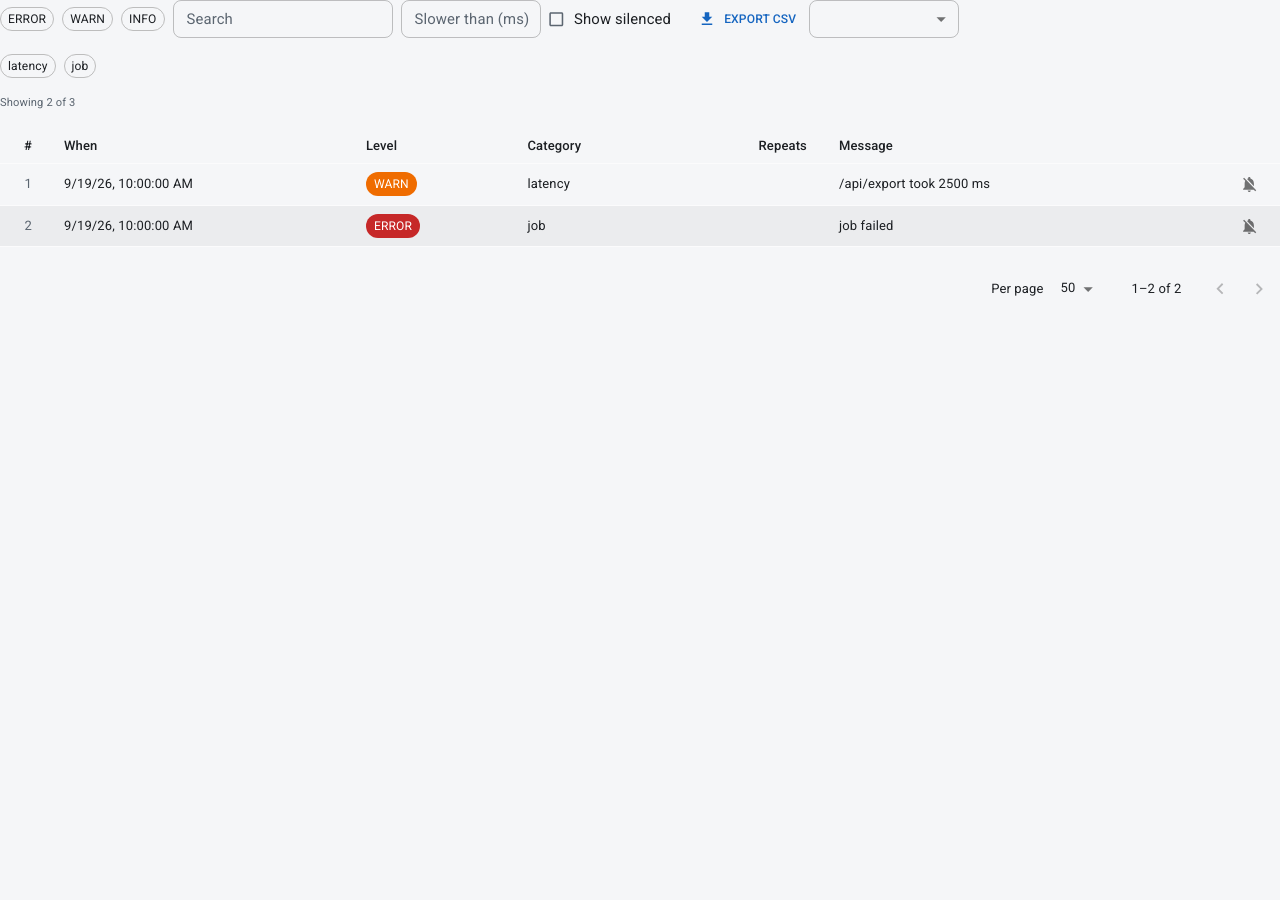
Test case: AlertsPanel › offers to silence a row
Click the button named "Silence this" in the row of "/api/export took 2500 ms" at {"x": 1250, "y": 184}, box [1235,170,1264,199]
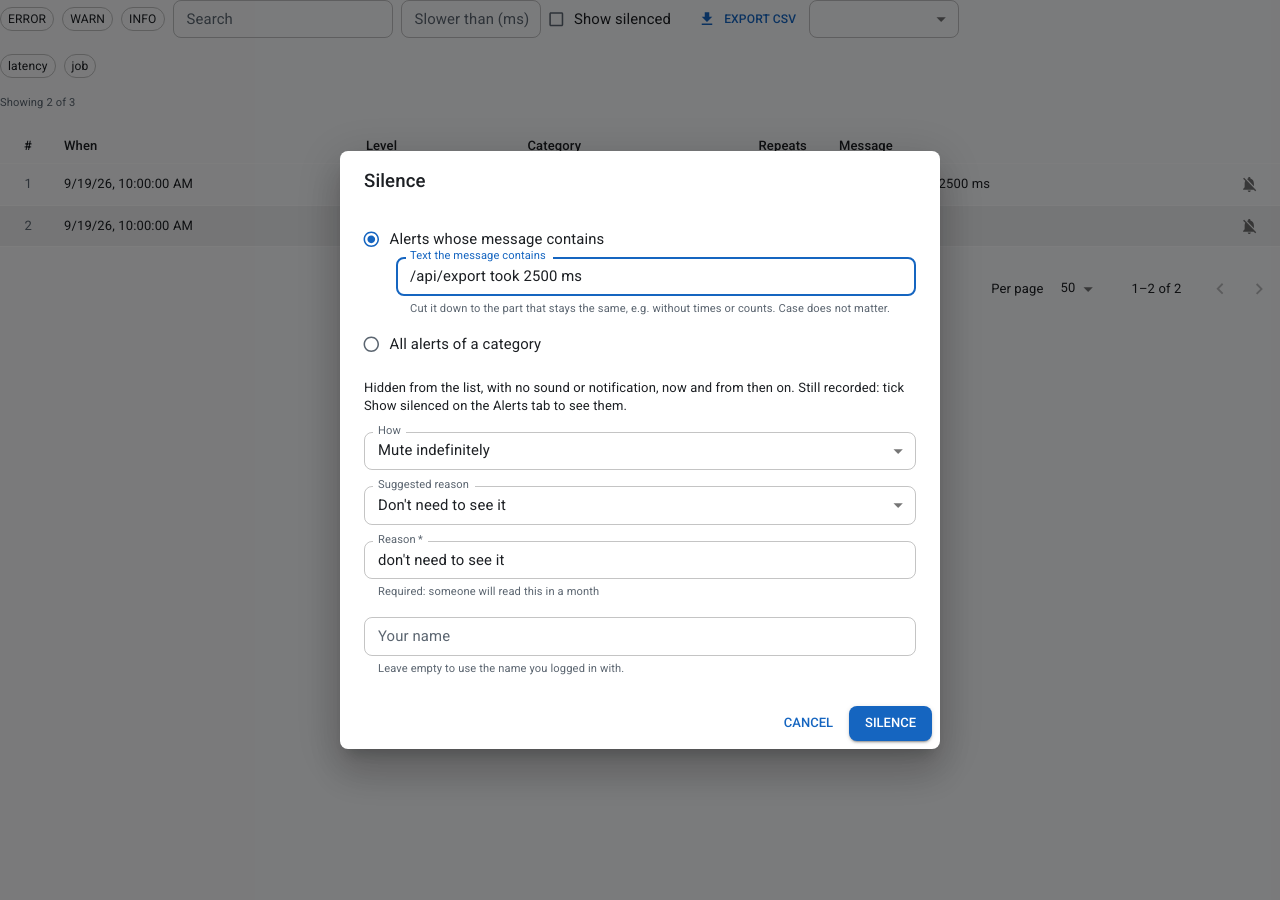
Now the dialog is shown, box [340,151,940,749]
Now the field labelled "Text the message contains" holds "/api/export took 2500 ms", box [396,257,916,296]
Now the button "Silence" is enabled, box [849,706,932,741]
Clear the field labelled "Reason *" at {"x": 640, "y": 560}, box [364,541,916,579]
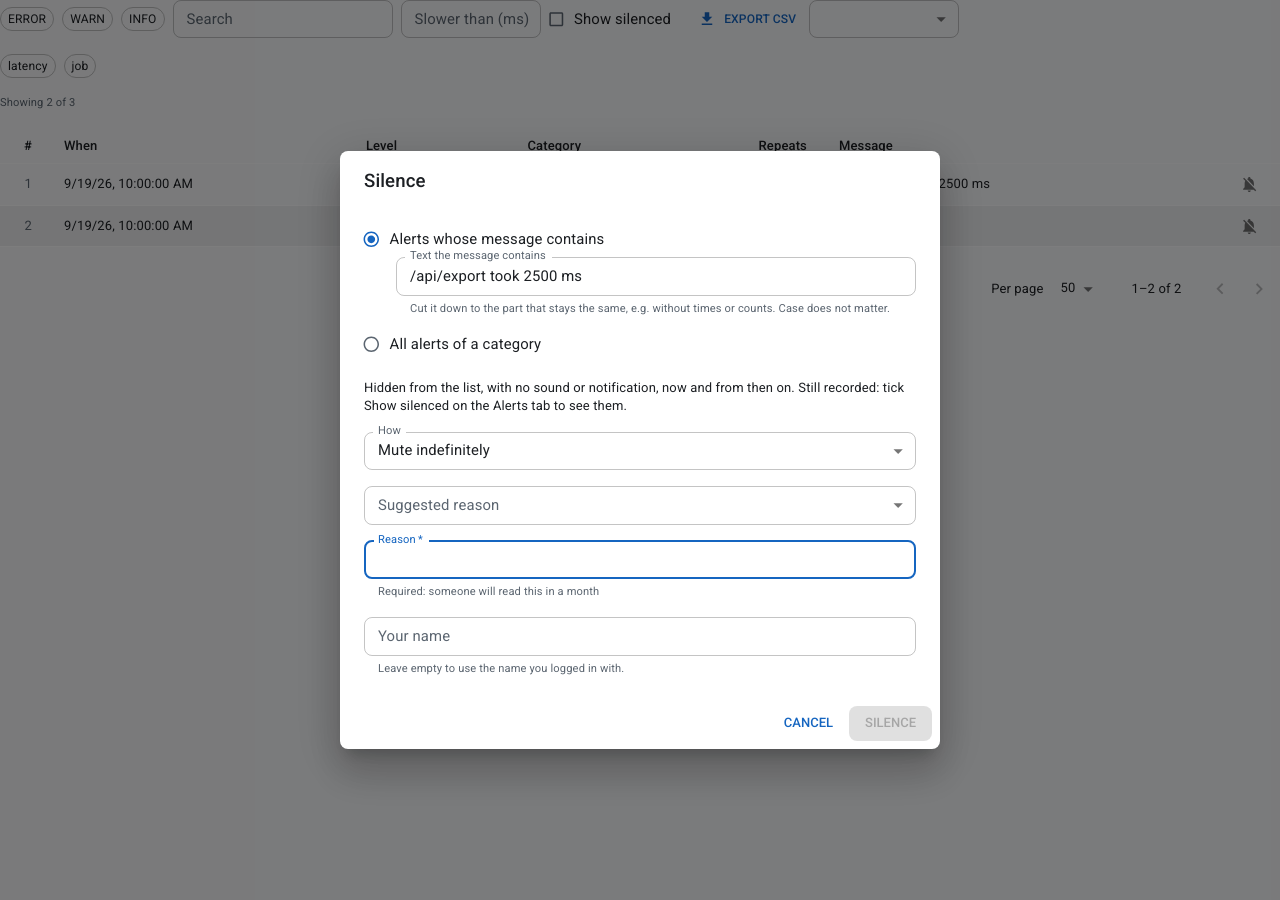
Now the button "Silence" is disabled, box [849,706,932,741]
